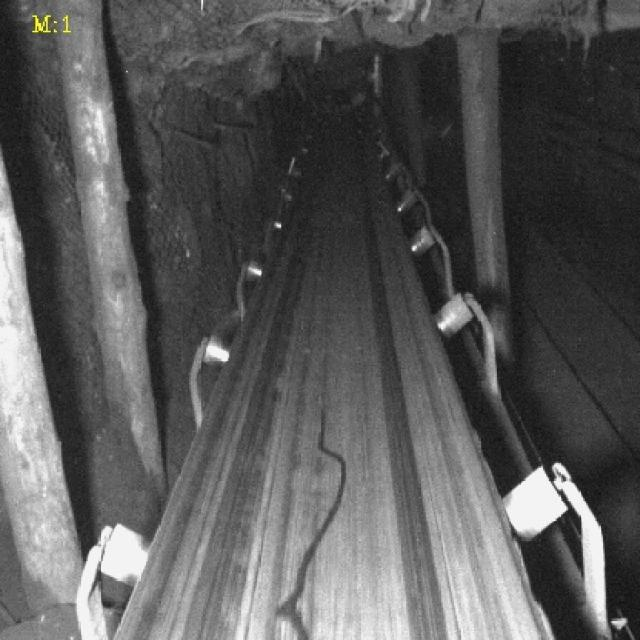bolt: (271, 403, 355, 635)
